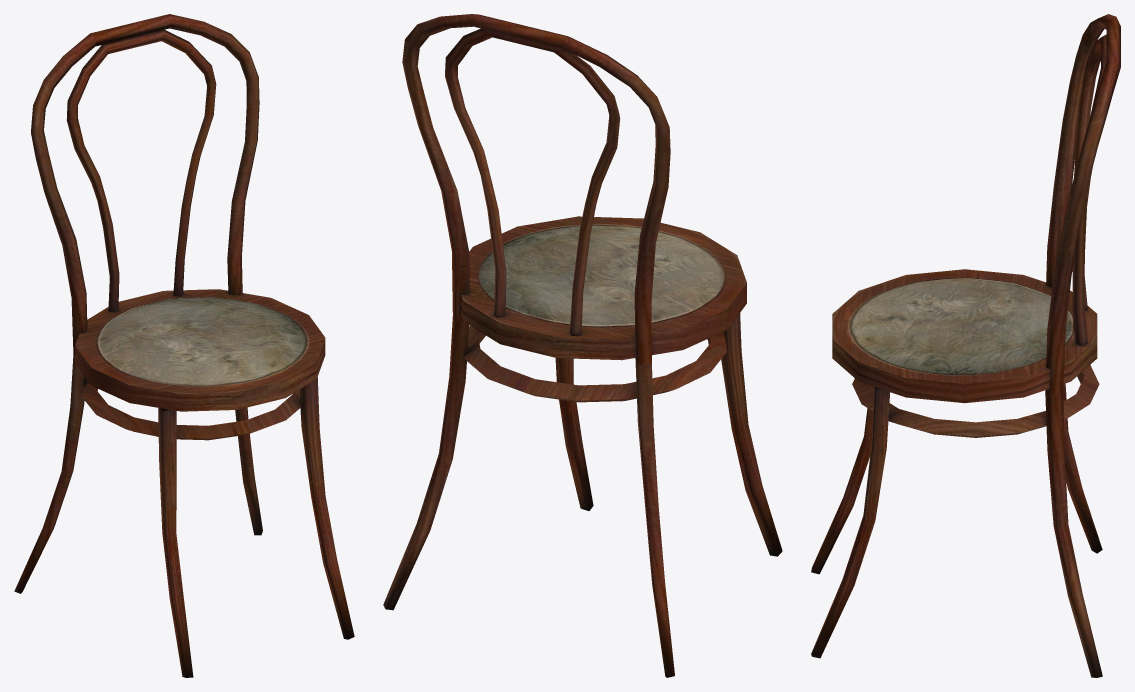
File: si-stuhl.glb
3 views of the same model, side by side, from view 1: azimuth 30°, elevation 25°; view 2: azimuth 150°, elevation 25°; view 3: azimuth 270°, elevation 25° (orthographic). The views are drawn at different scales.
Parts seen in each view (by area): view 1: si-stuhl; view 2: si-stuhl; view 3: si-stuhl.
Boxes of the visible parts, box(x1,y1,x2,y2) form: si-stuhl: box(14, 14, 354, 677); si-stuhl: box(383, 14, 782, 677); si-stuhl: box(811, 14, 1120, 677).
Bounding box in the file's own units: 0.3905 × 0.8002 × 0.3891.
1 material, 1 textured.
